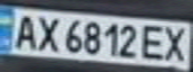1: (100, 20, 121, 57)
2: (118, 20, 142, 60)
6: (60, 16, 84, 54)
8: (81, 19, 103, 56)
A: (9, 11, 42, 51)
E: (139, 21, 172, 62)
X: (160, 24, 193, 64), (33, 14, 63, 53)
